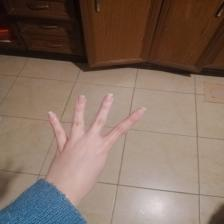four: (45, 93, 152, 187)
